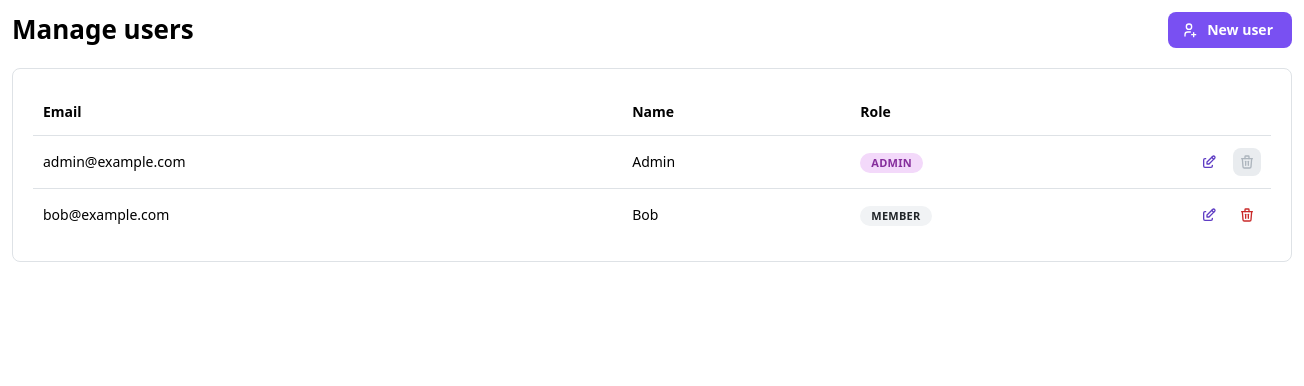
Test: UsersPage › shows an error when a delete fails
The width and height of the screenshot is (1304, 386).
Check: the text "bob@example.com" is shown, box [33, 188, 622, 241]
Click the button named "Delete bob@example.com". click: (1247, 215)
box: [1233, 201, 1261, 229]
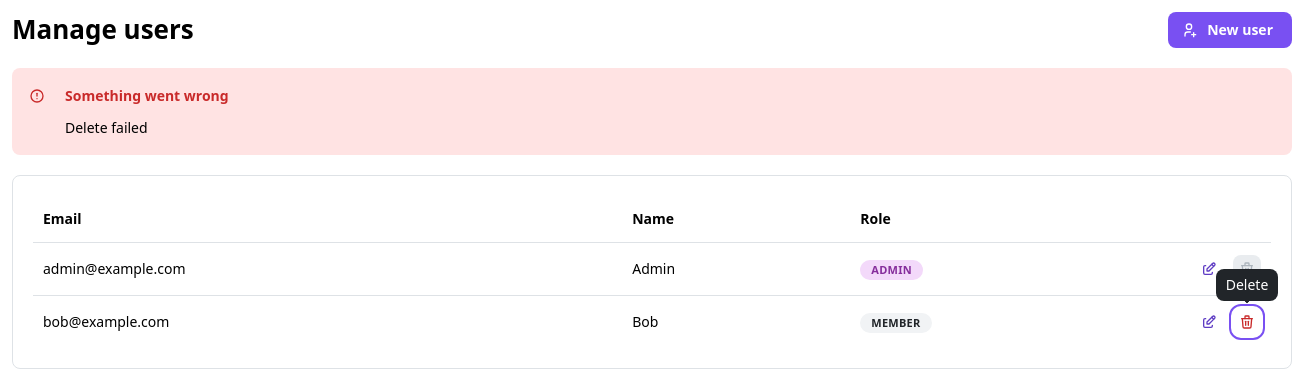
Check: the text "Delete failed" is shown, box [65, 118, 148, 137]
